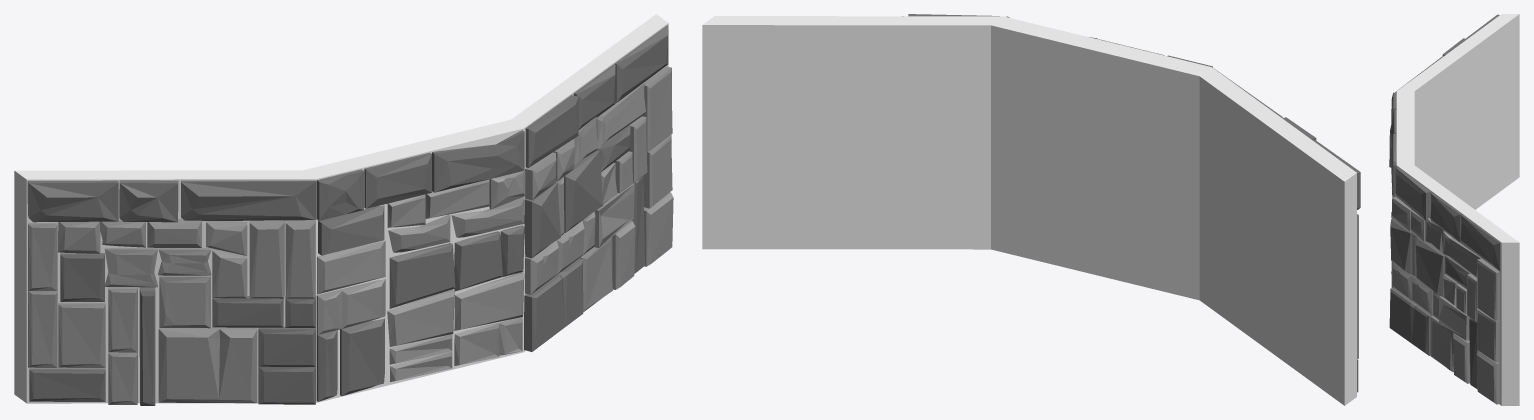
Rendered from _FOUNDATION_01_1.glb.
The picture shows the model from 3 angles, left to right: view 1: azimuth 30°, elevation 25°; view 2: azimuth 150°, elevation 25°; view 3: azimuth 270°, elevation 25°; orthographic projection. The views are drawn at different scales.
Visible parts, largest first — view 1: FOUNDATION_01_1; view 2: FOUNDATION_01_1; view 3: FOUNDATION_01_1.
Part boxes in pixels (x1,y1,x2,y2): FOUNDATION_01_1: (14, 14, 673, 405); FOUNDATION_01_1: (702, 14, 1360, 405); FOUNDATION_01_1: (1389, 14, 1519, 405).
Bounding box in the file's own units: 3 × 1 × 0.7223.
1 material, 1 textured.
